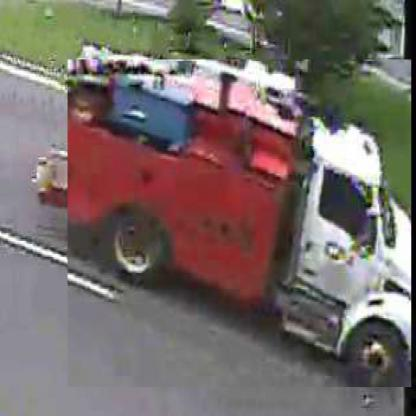truck: (69, 60, 414, 390)
